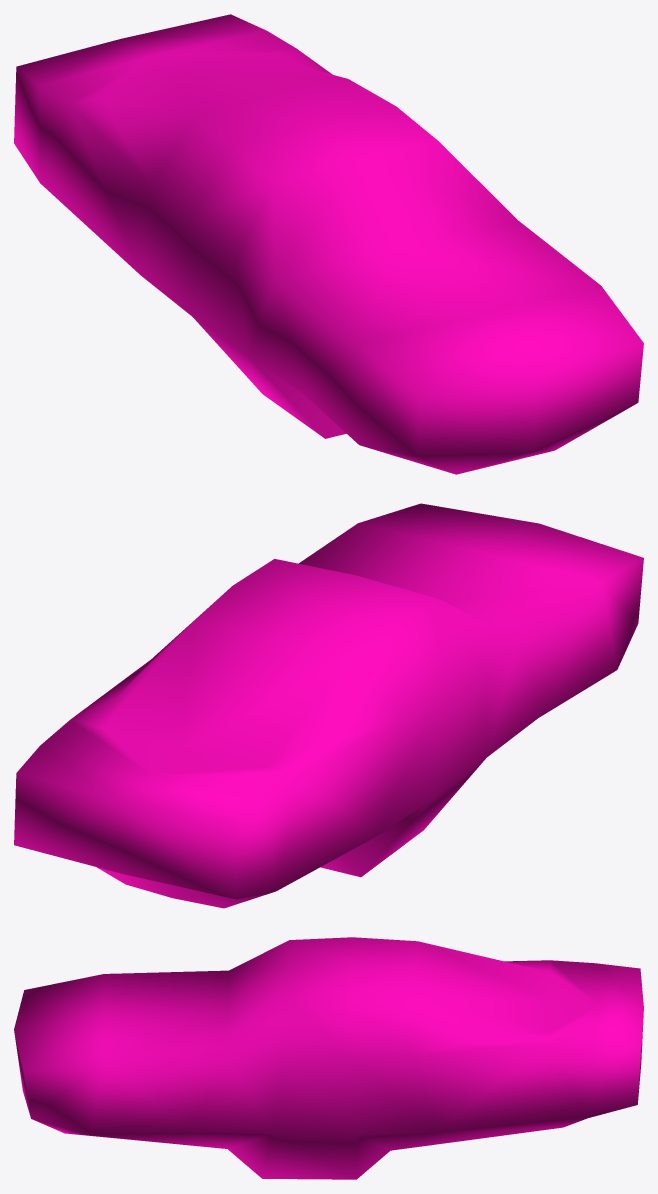
The model's file is the_comet_collider.FBX.
3 views of the same model, one above another, from view 1: azimuth 30°, elevation 25°; view 2: azimuth 150°, elevation 25°; view 3: azimuth 270°, elevation 25° (orthographic). The views are drawn at different scales.
Parts seen in each view (by area): view 1: collider; view 2: collider; view 3: collider.
Part boxes in pixels (<box>): collider: <box>14,14,643,474</box>; collider: <box>14,503,643,908</box>; collider: <box>14,937,643,1179</box>.
Size of the model in its own units: 1.79 by 1.74 by 5.04.
